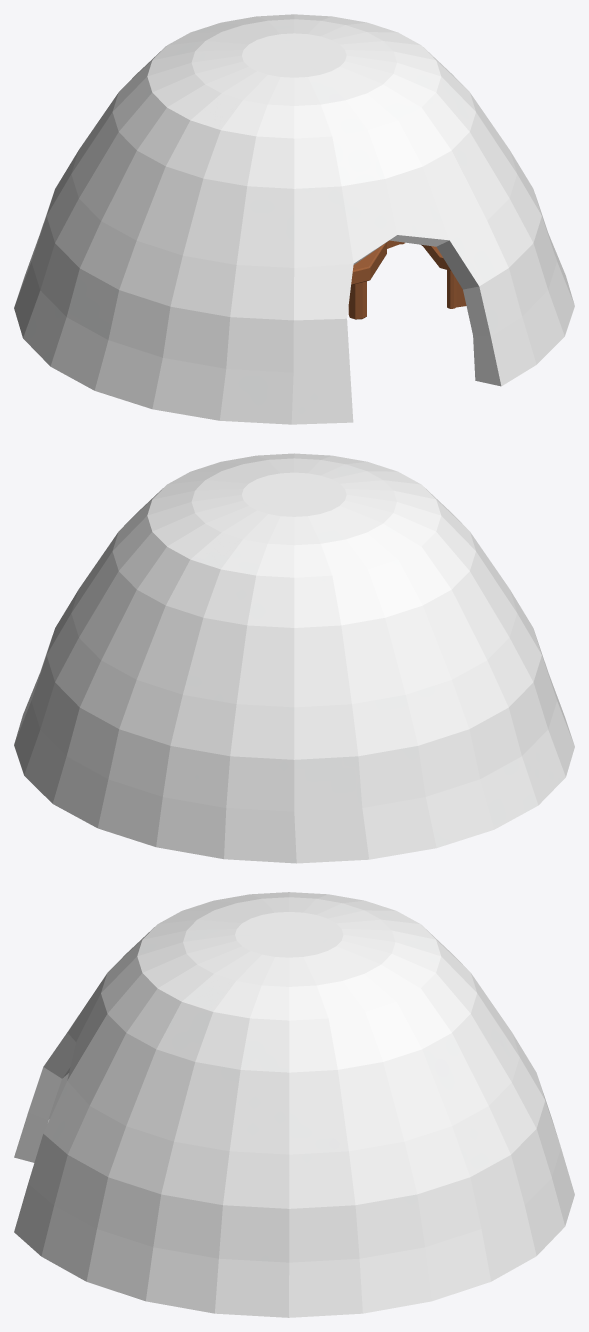
The model's file is snow_house.fbx.
The picture shows the model from 3 angles, top to bottom: view 1: azimuth 30°, elevation 25°; view 2: azimuth 150°, elevation 25°; view 3: azimuth 270°, elevation 25°; orthographic projection. The views are drawn at different scales.
Visible parts, largest first — view 1: doom, table, char.002; view 2: doom; view 3: doom.
Boxes of the visible parts, bbox=[...] form: doom: bbox=[14, 14, 574, 424]; table: bbox=[348, 242, 386, 319]; char.002: bbox=[387, 240, 466, 308]; doom: bbox=[14, 453, 574, 863]; doom: bbox=[14, 892, 574, 1317].
Size of the model in its own units: 1030 by 511 by 992.
